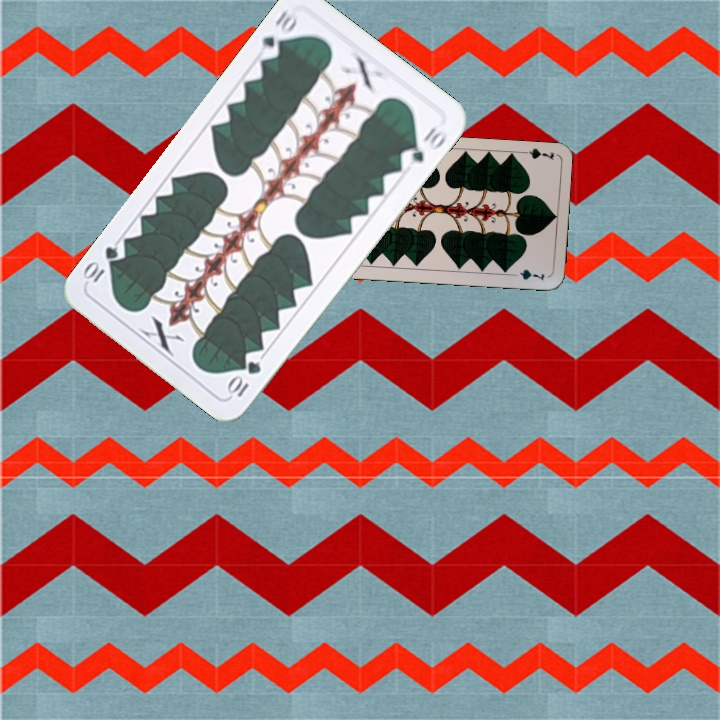G10: (258, 6, 300, 63), (223, 357, 264, 400)
G7: (516, 144, 556, 162)
